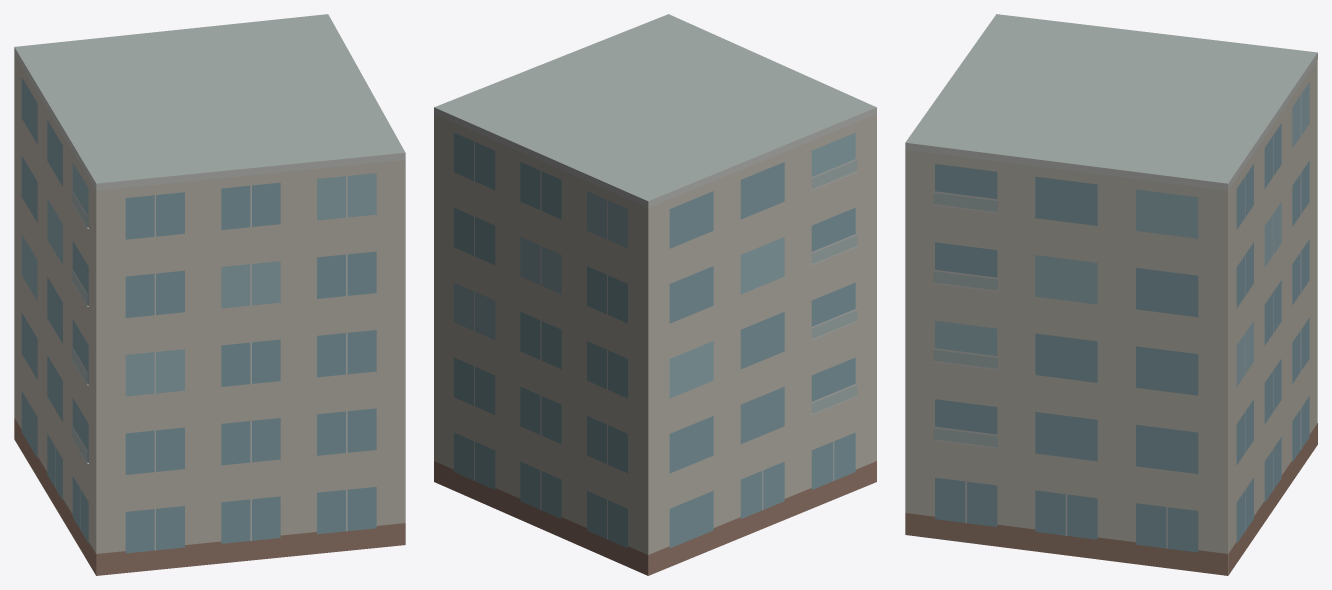
Rendered from survey-upis-32539405.glb.
3 renders of one model, left to right at view 1: azimuth 30°, elevation 25°; view 2: azimuth 150°, elevation 25°; view 3: azimuth 270°, elevation 25°, orthographic. The views are drawn at different scales.
Parts seen in each view (by area): view 1: survey-upis-32539405.tmp; view 2: survey-upis-32539405.tmp; view 3: survey-upis-32539405.tmp.
Part boxes in pixels (x1,y1,x2,y2): survey-upis-32539405.tmp: [14, 14, 405, 575]; survey-upis-32539405.tmp: [434, 14, 876, 575]; survey-upis-32539405.tmp: [905, 14, 1317, 575].
Size of the model in its own units: 12.53 by 13.5 by 12.88.
